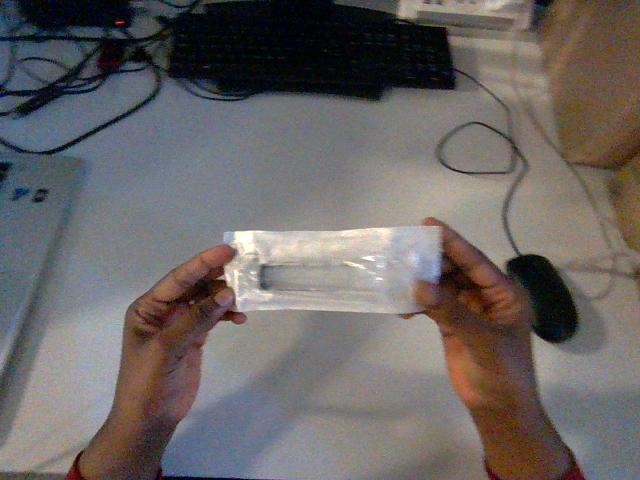syringe: (224, 226, 441, 312)
